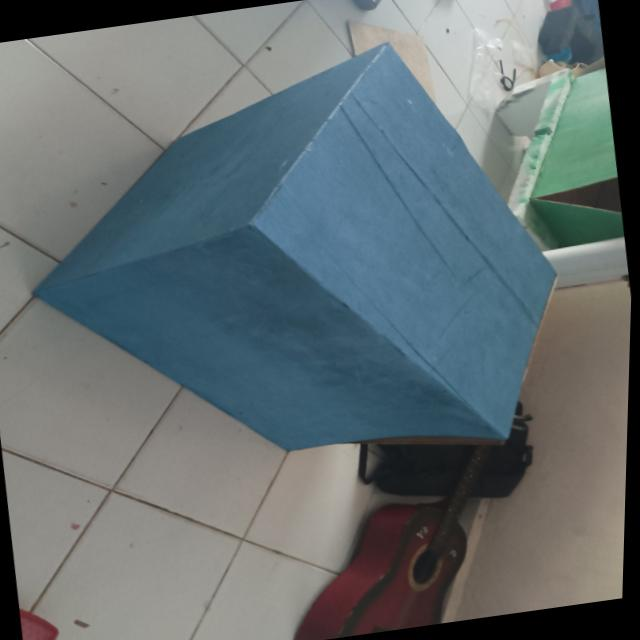blue_box: (0, 7, 640, 536)
